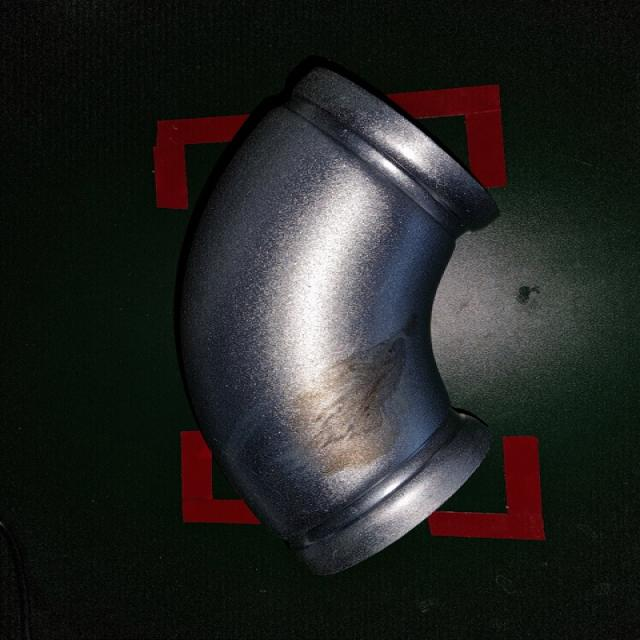Burn: (277, 328, 425, 479)
Defect: (165, 62, 504, 588)
